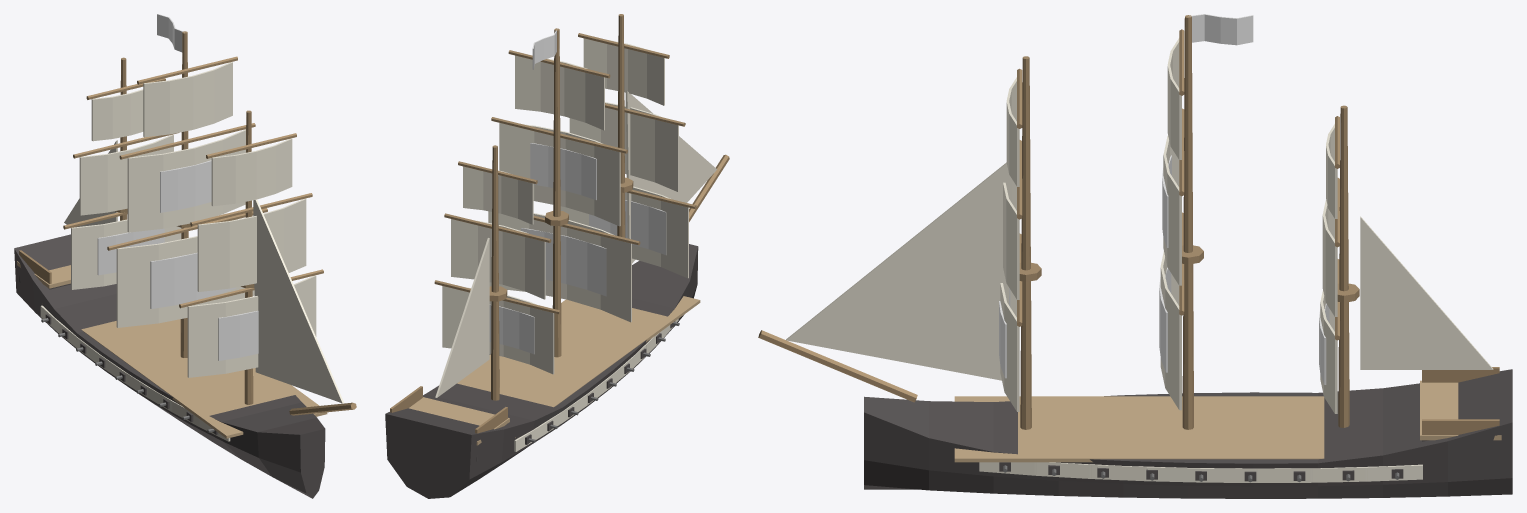
The model's file is civ_unit_frigate.glb.
3 renders of one model, left to right at view 1: azimuth 30°, elevation 25°; view 2: azimuth 150°, elevation 25°; view 3: azimuth 270°, elevation 25°, orthographic. The views are drawn at different scales.
Parts seen in each view (by area): view 1: civ_unit_frigate; view 2: civ_unit_frigate; view 3: civ_unit_frigate.
Part boxes in pixels (x1,y1,x2,y2): civ_unit_frigate: [14, 14, 356, 498]; civ_unit_frigate: [385, 14, 729, 498]; civ_unit_frigate: [758, 14, 1512, 498].
Bounding box in the file's own units: 3.58 × 8.05 × 11.63.
